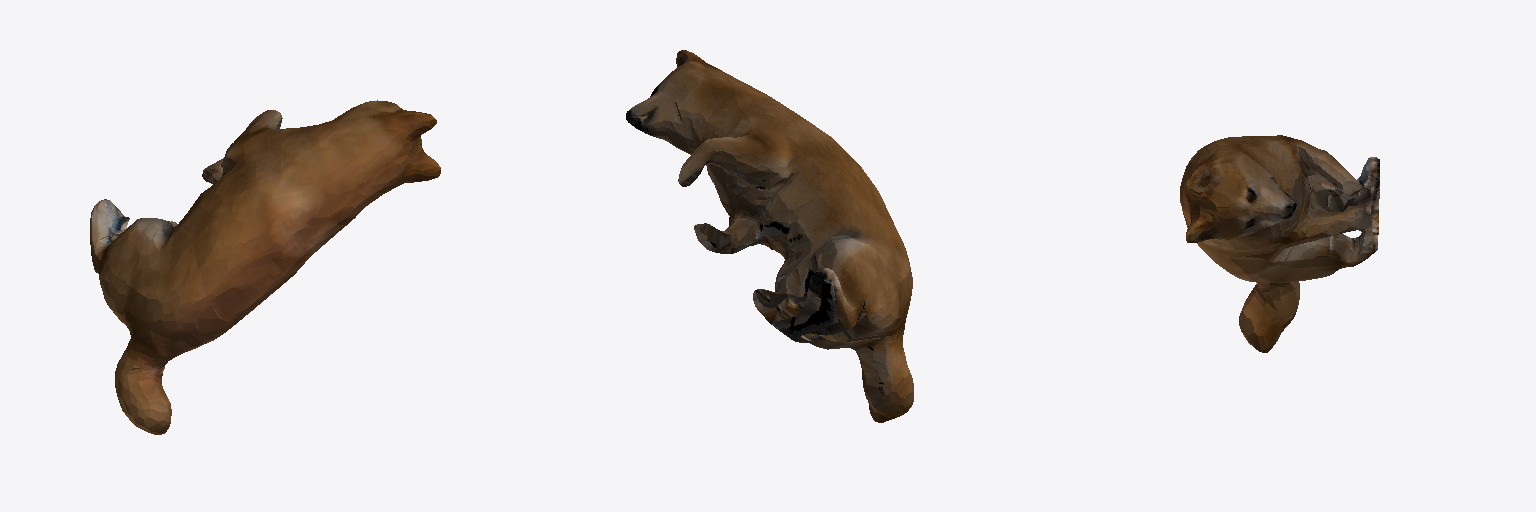
The picture shows the model from 3 angles: view 1: azimuth 30°, elevation 25°; view 2: azimuth 150°, elevation 25°; view 3: azimuth 270°, elevation 25°; orthographic projection.
Bounding box in the file's own units: 0.5421 × 0.5445 × 0.3384.
1 materials, 1 textured.